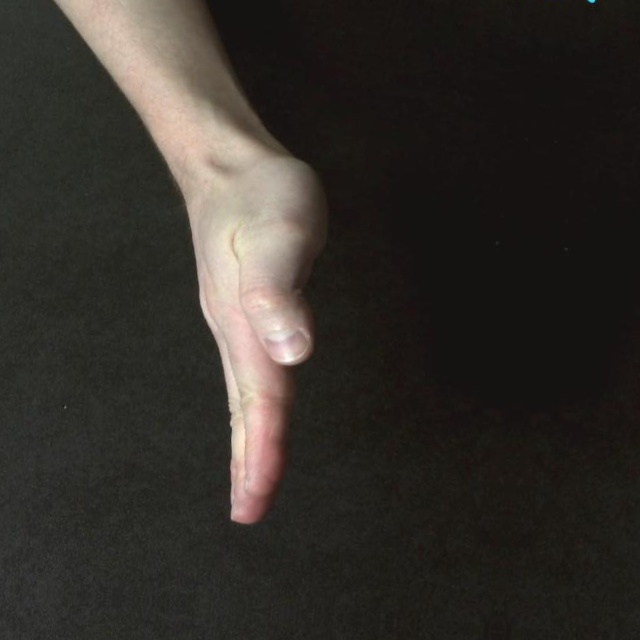Paper: (163, 143, 333, 535)
